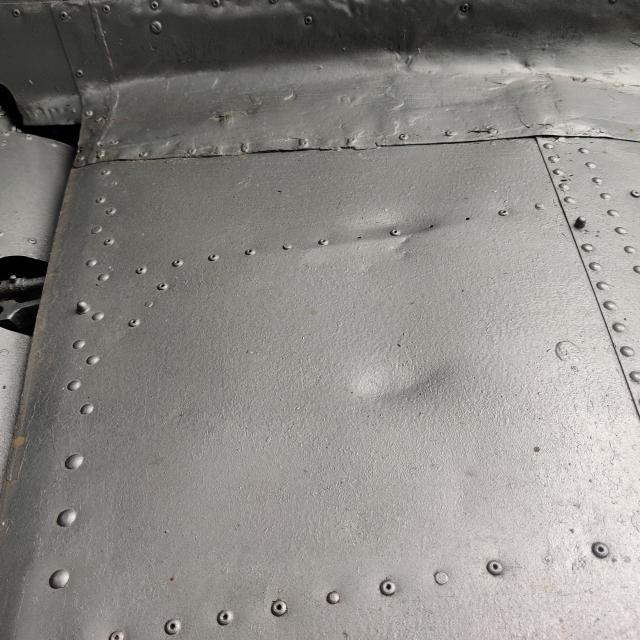dent: (335, 320, 465, 439), (322, 173, 446, 284)
